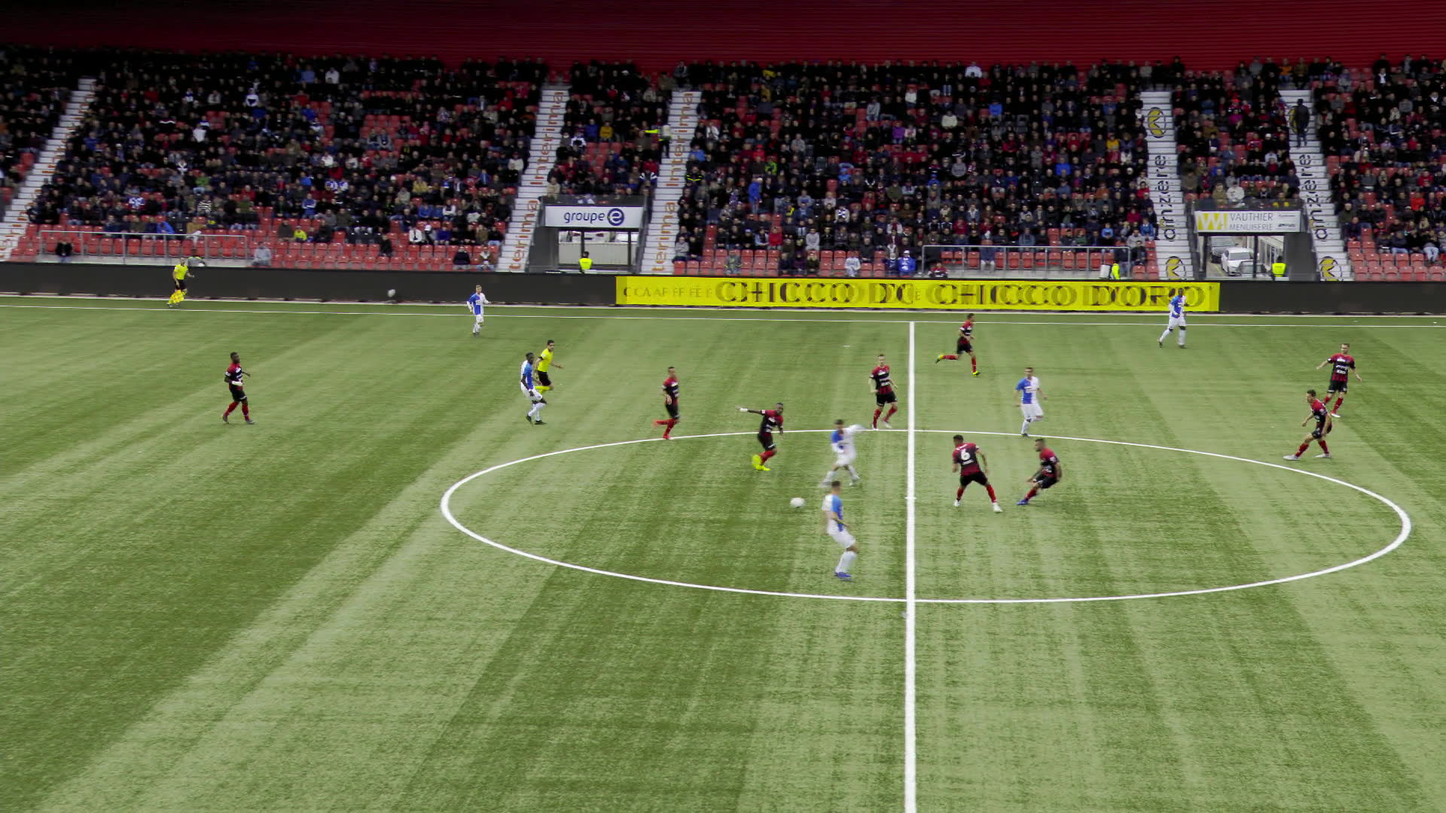ball: (801, 497, 813, 507)
player: (946, 434, 1005, 513), (813, 478, 856, 580), (1313, 343, 1362, 418), (732, 401, 782, 470), (1286, 389, 1333, 461), (1019, 435, 1067, 504), (933, 310, 978, 373), (837, 418, 879, 485), (642, 367, 679, 439), (1007, 367, 1044, 437), (865, 355, 898, 429), (223, 352, 252, 425), (519, 350, 546, 425), (1159, 288, 1184, 348), (467, 285, 492, 335)
referee: (518, 339, 557, 398), (171, 257, 195, 306)
